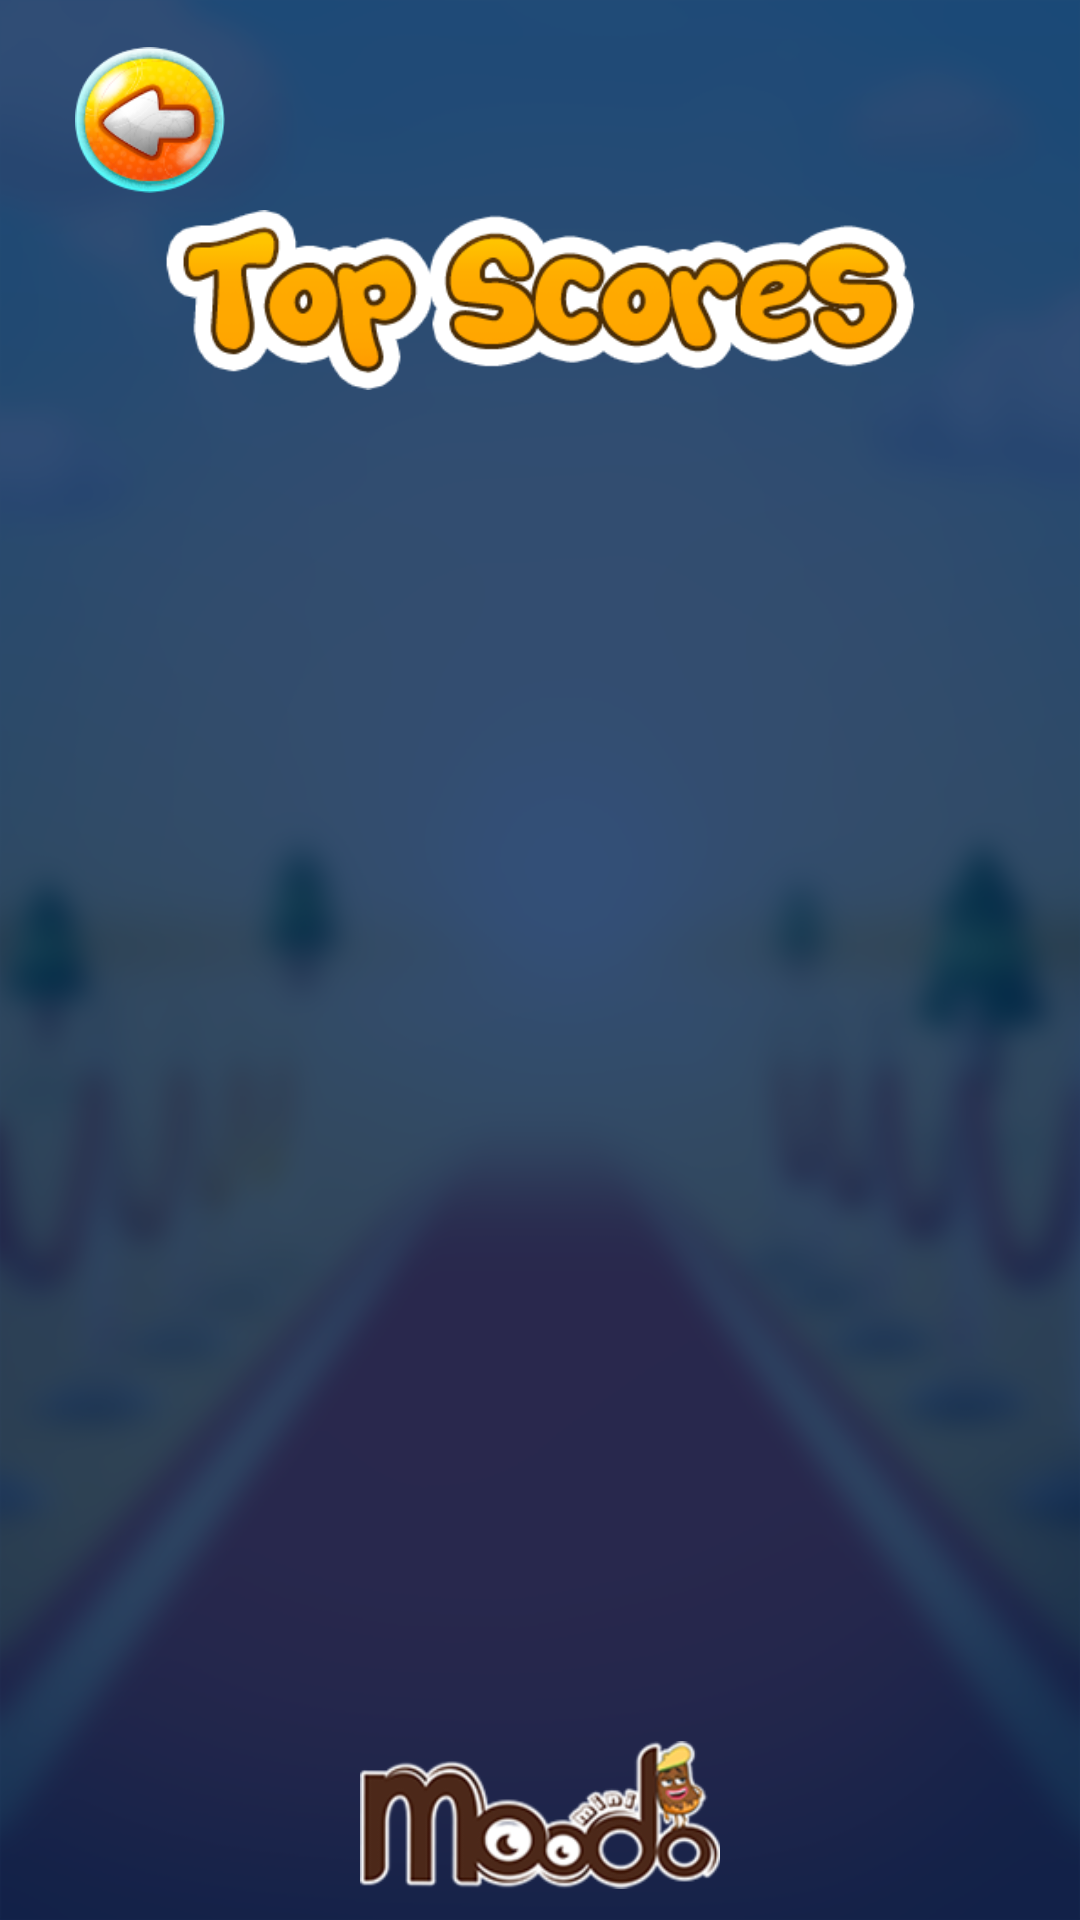

Where to tap for icons on this 1080px×1920px app screen, as (x=x, y=y):
back: (x=150, y=120)
